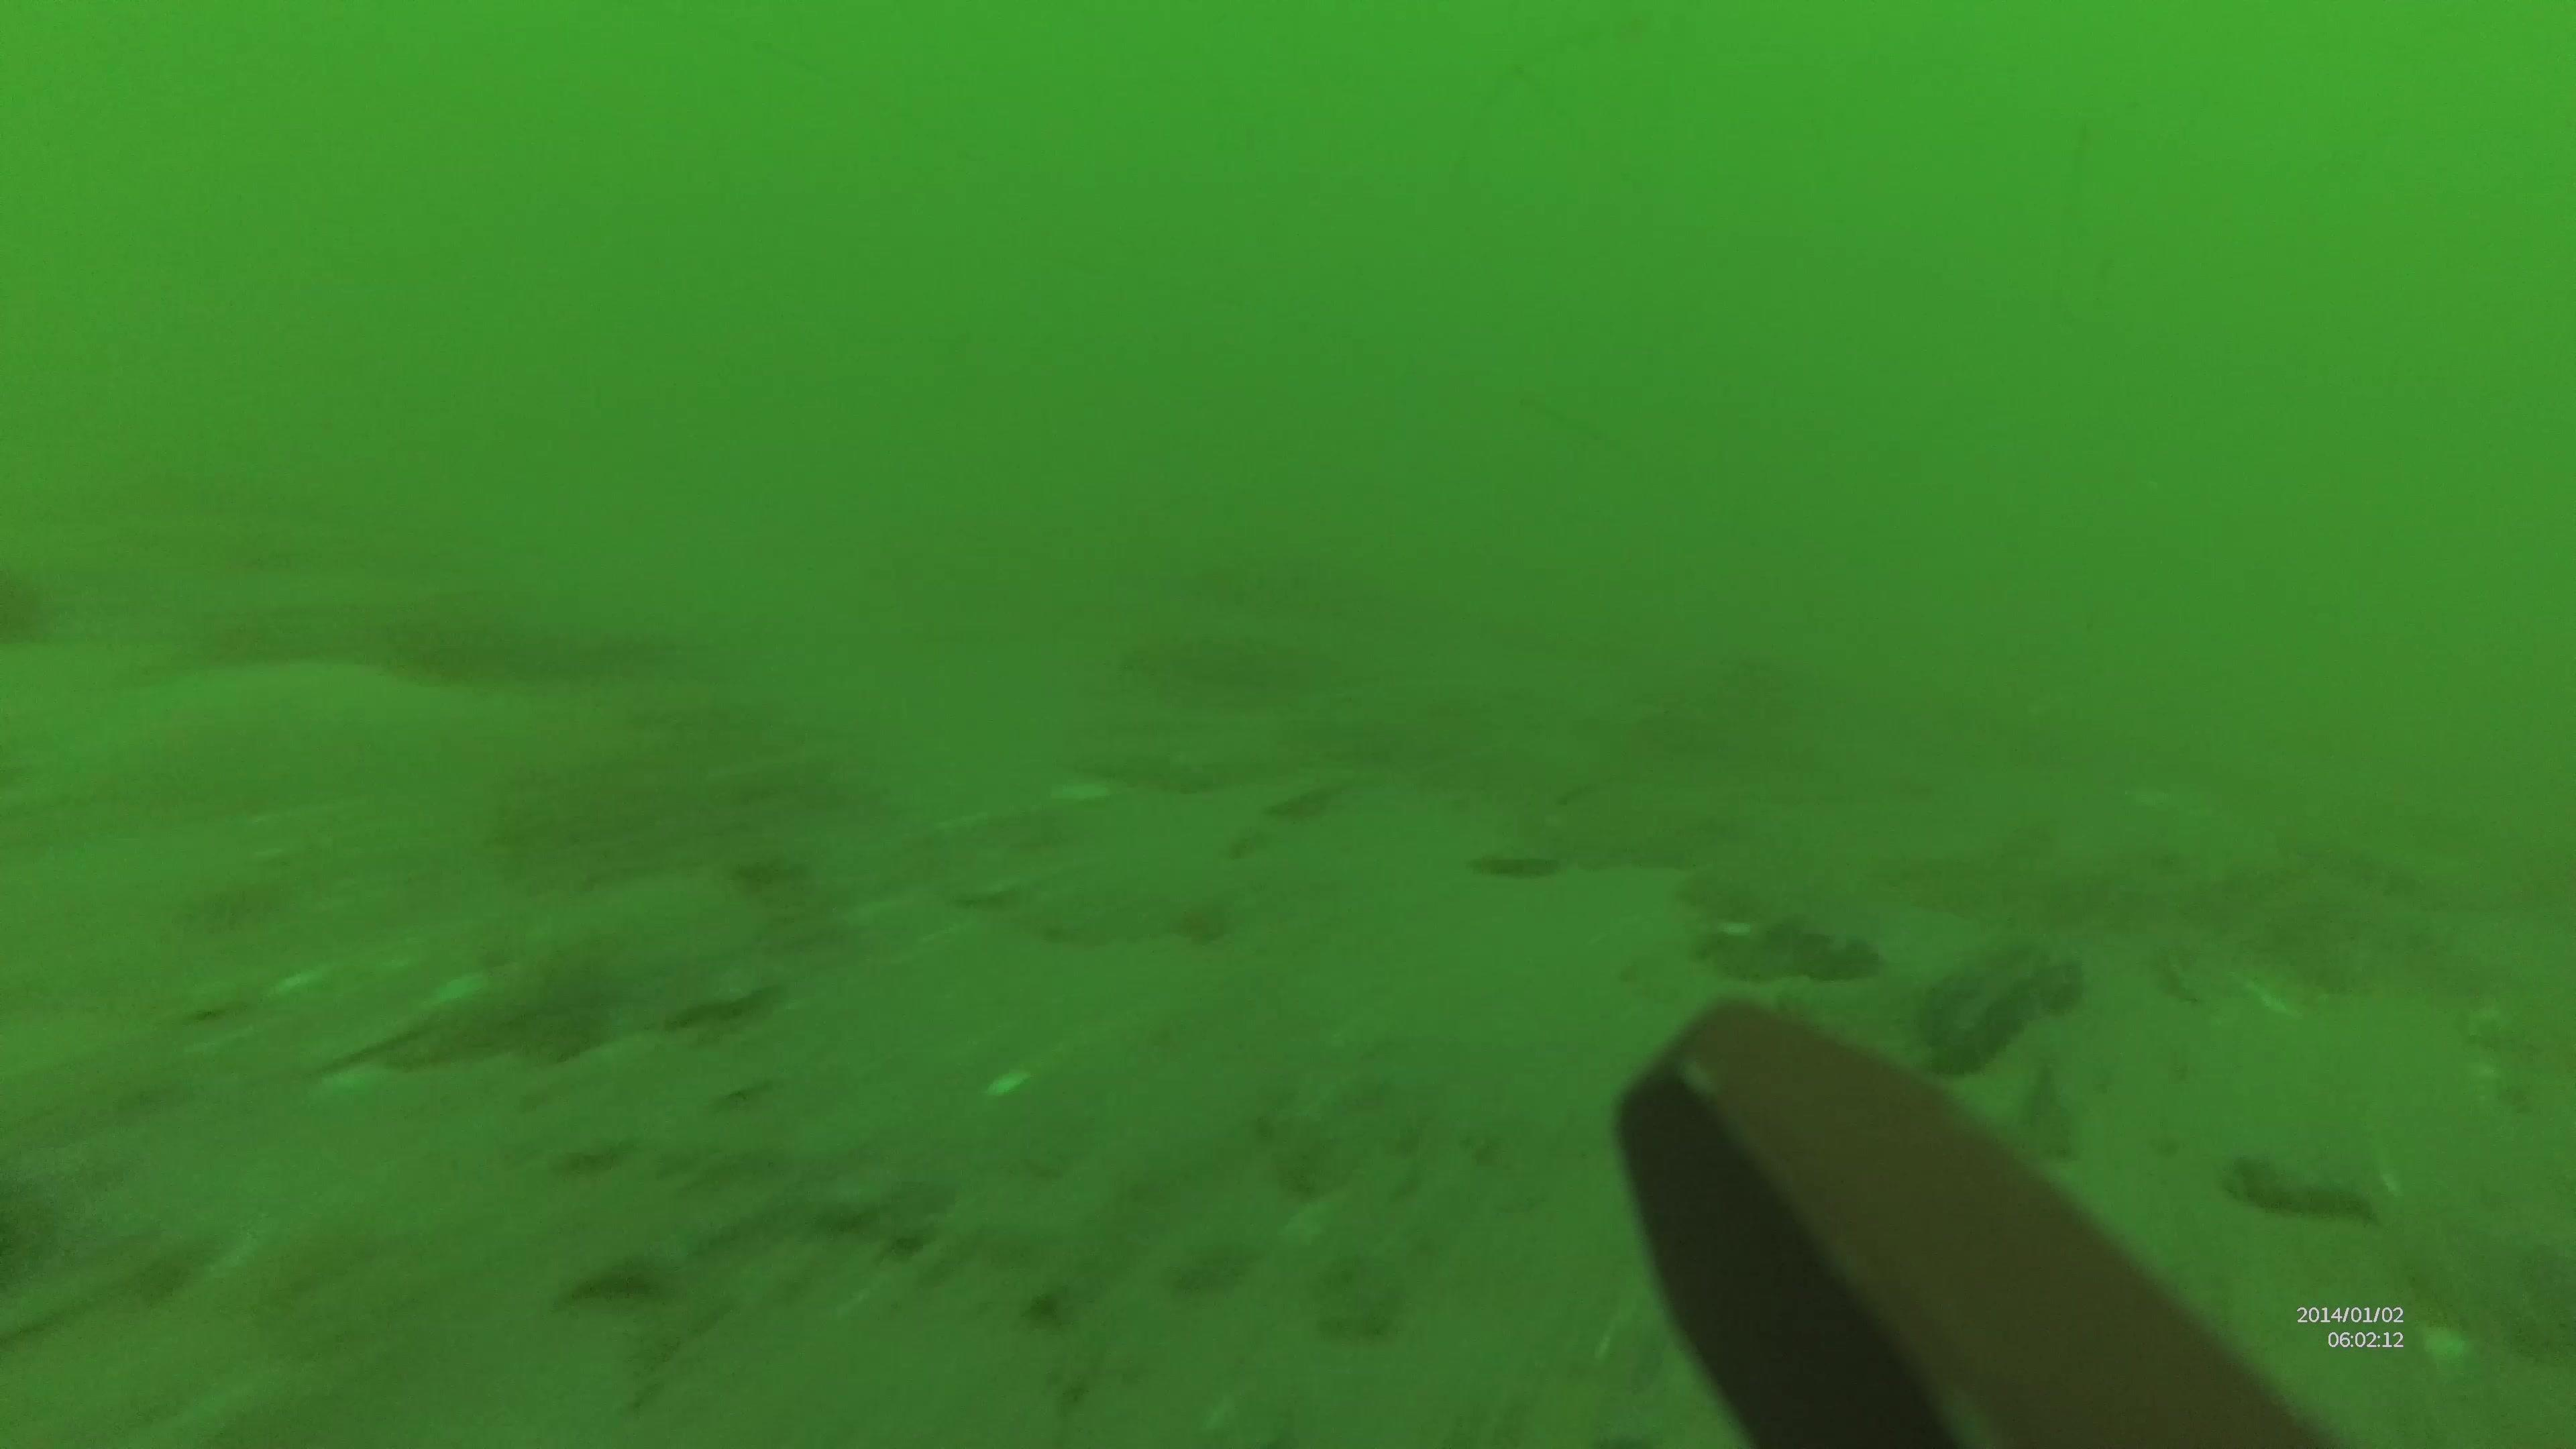starfish: (2, 644, 644, 916)
